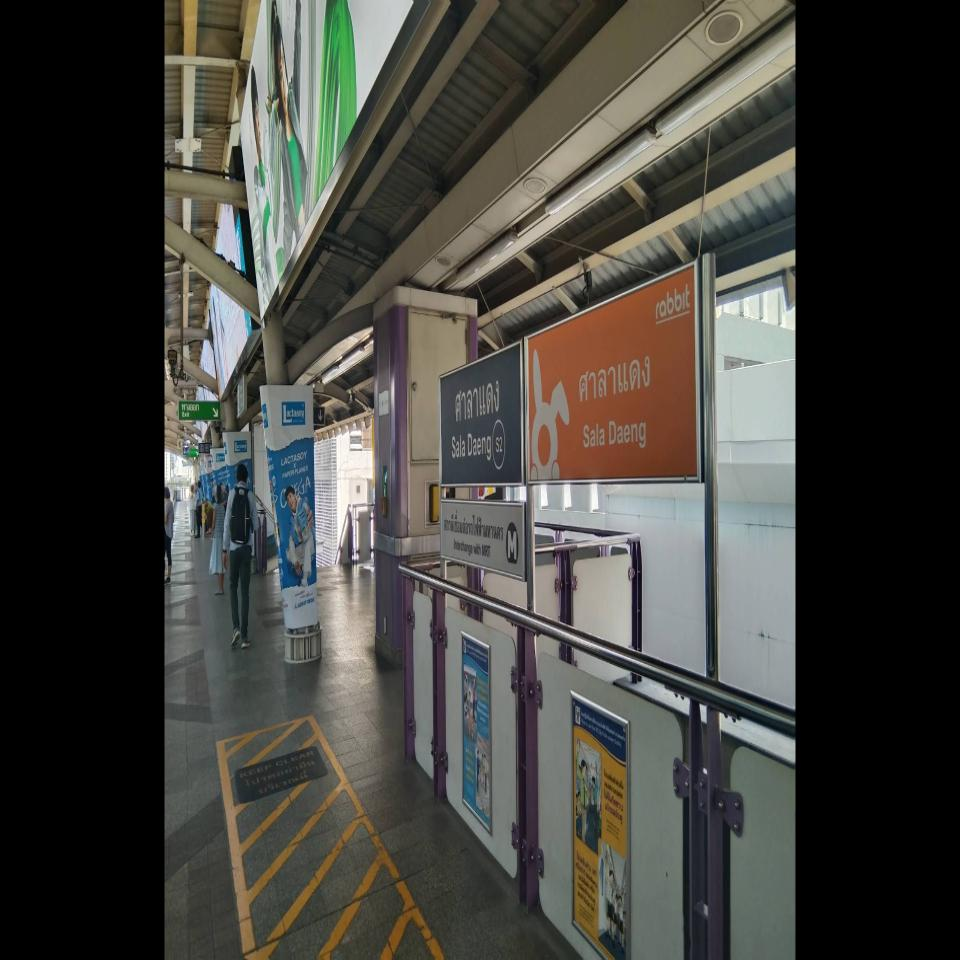signage: (525, 258, 704, 488), (438, 337, 524, 488)
